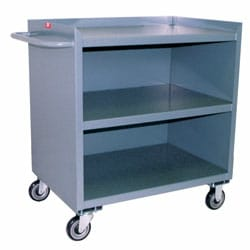Carts: (10, 15, 243, 241)
